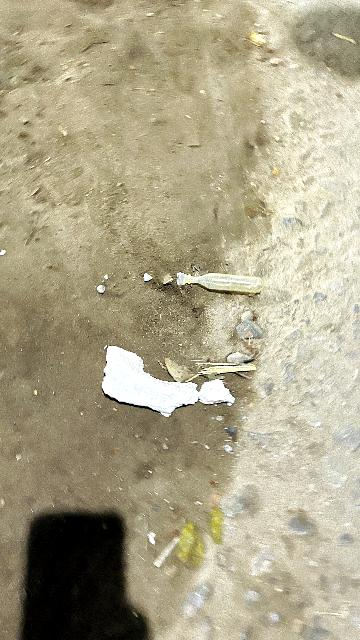cocksheet: (98, 343, 245, 416)
